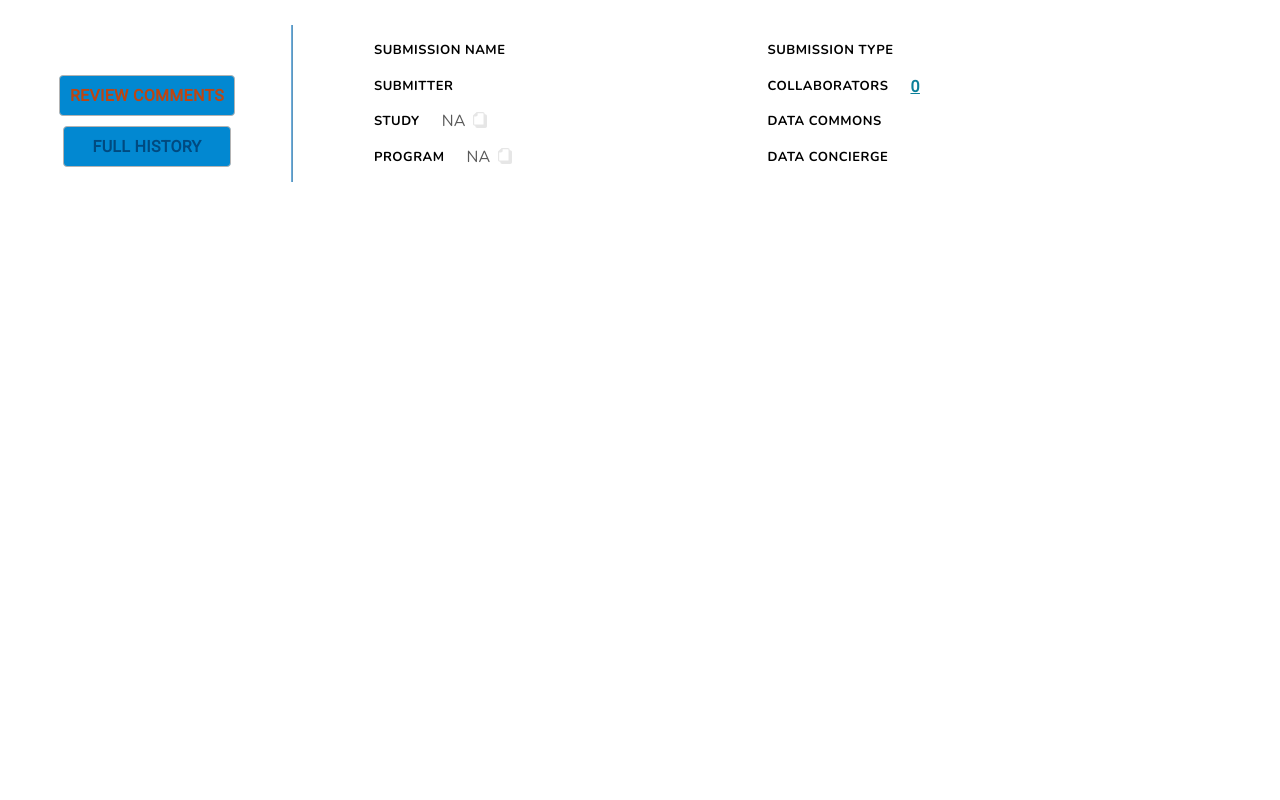
Scenario: DataSubmissionSummary Review Comments Dialog Tests › shows the correct content in the Review Comments dialog
Step 1. Click the button "Review Comments" → point(147, 96), box x1=59 y1=75 x2=235 y2=116
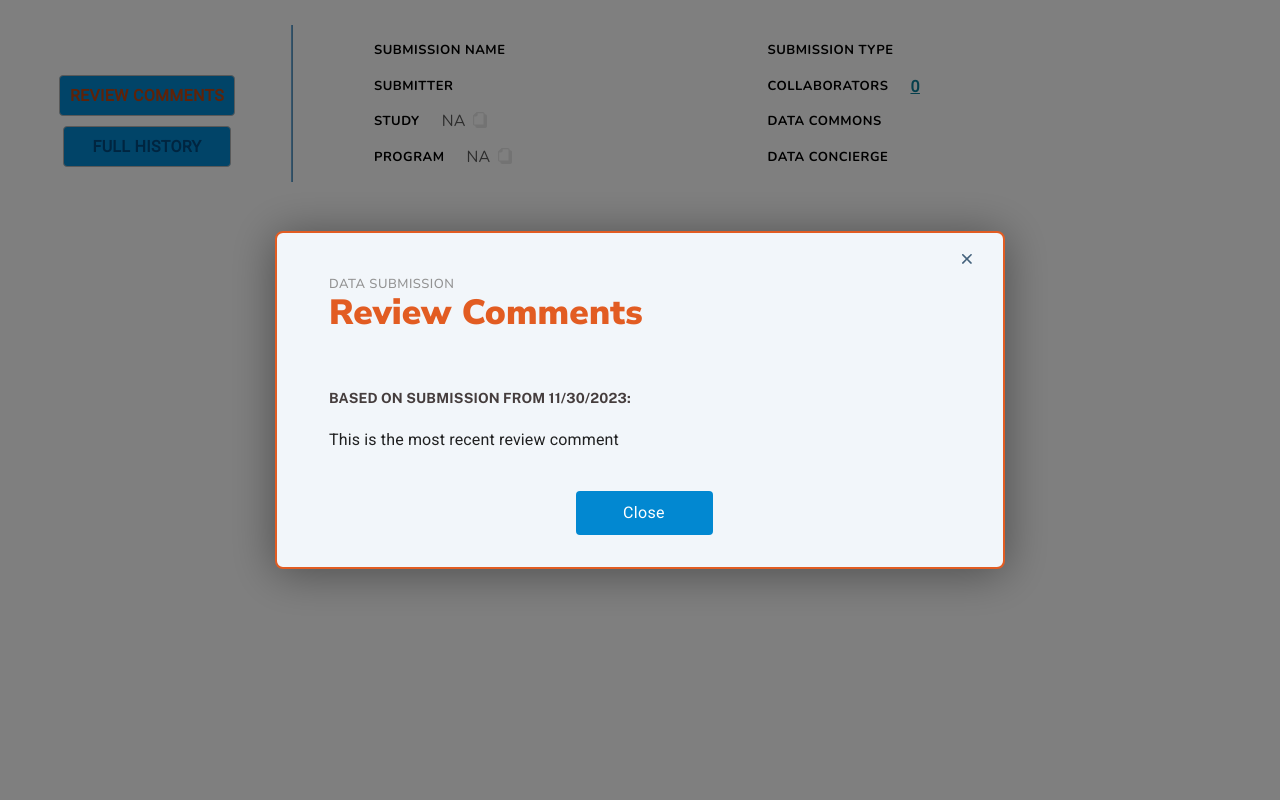
Expected: the text "This is the most recent review comment" is shown, x1=329 y1=430 x2=619 y2=449
